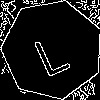L: (27, 25, 72, 78)
